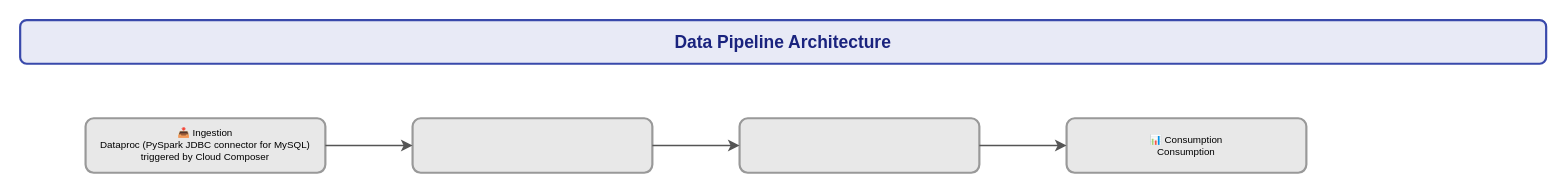
This 1565x192 diagram has some shape labels left out. The centre of each missing label's shape, as x and y in pixels:
"⚙️ Processing Dataproc (PySpark) + BigQuery Load Jobs (Parquet from GCS)" goes at pixel 532 145.
"💾 Storage Google Cloud Storage (Parquet staging) + BigQuery (analytical store)" goes at pixel 859 145.
